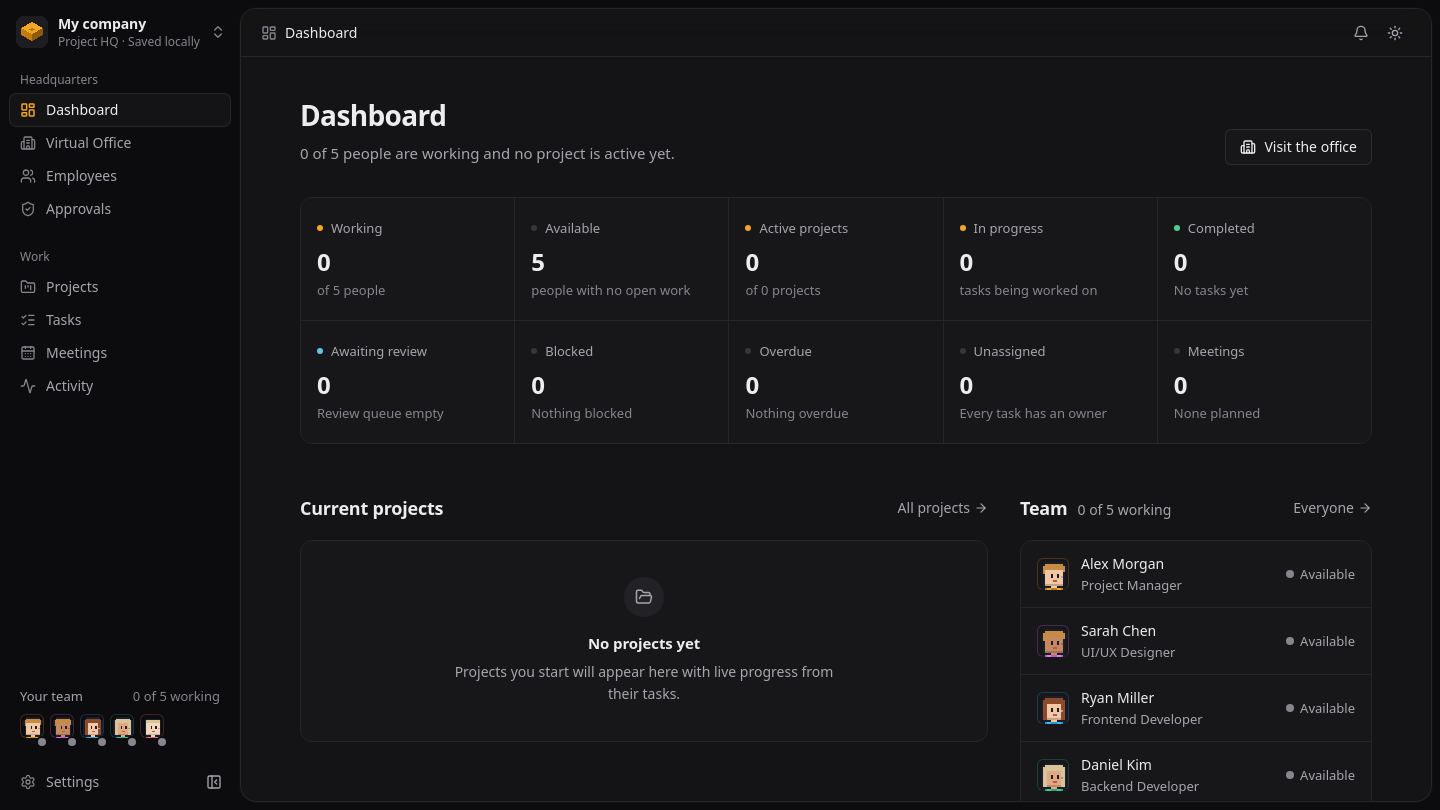
application shell › switches theme from the top bar and remembers it
Click the button named "Switch to light theme".
click(1395, 32)  # box x1=1379 y1=16 x2=1411 y2=48
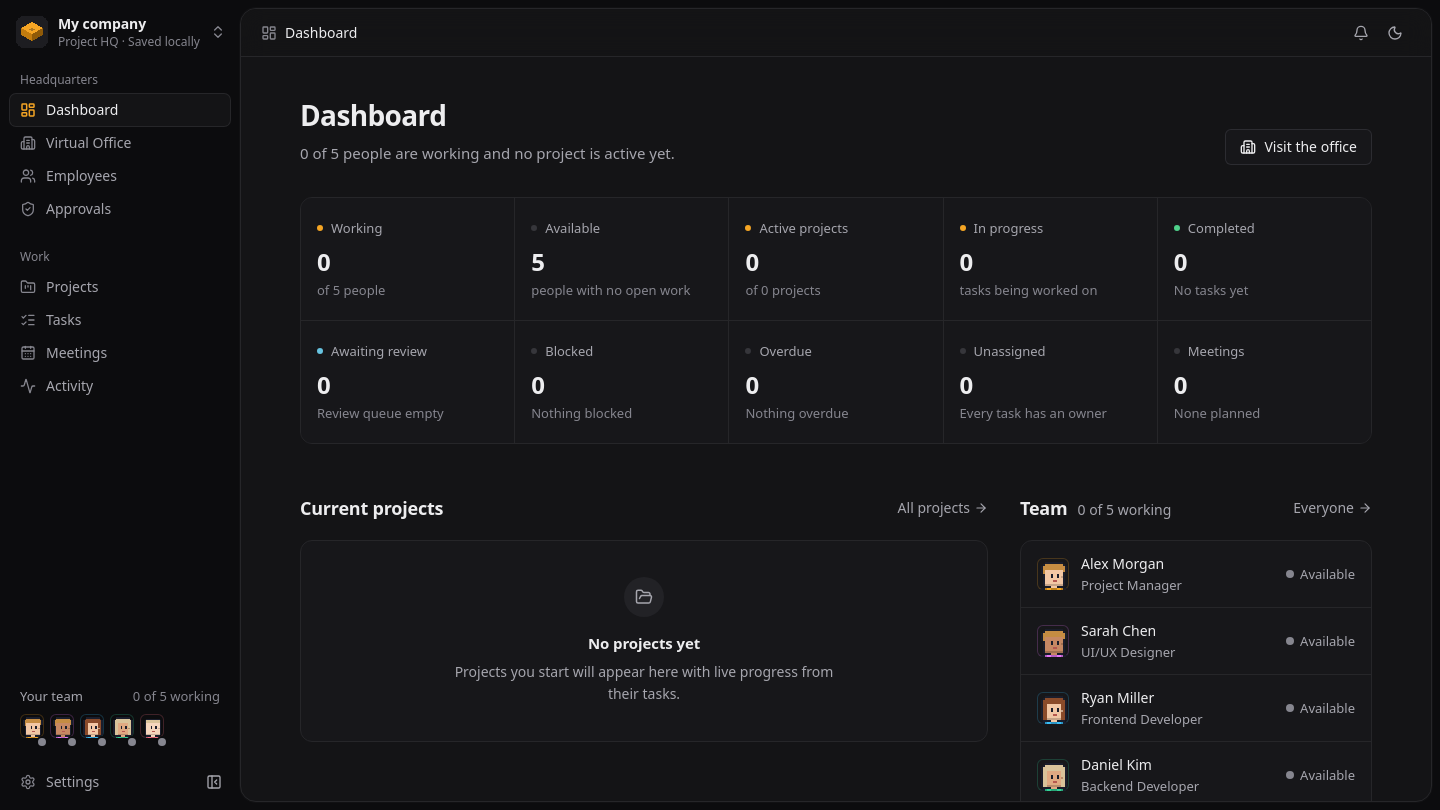
Check: the button named "Switch to dark theme" is shown, box x1=1379 y1=16 x2=1411 y2=48
